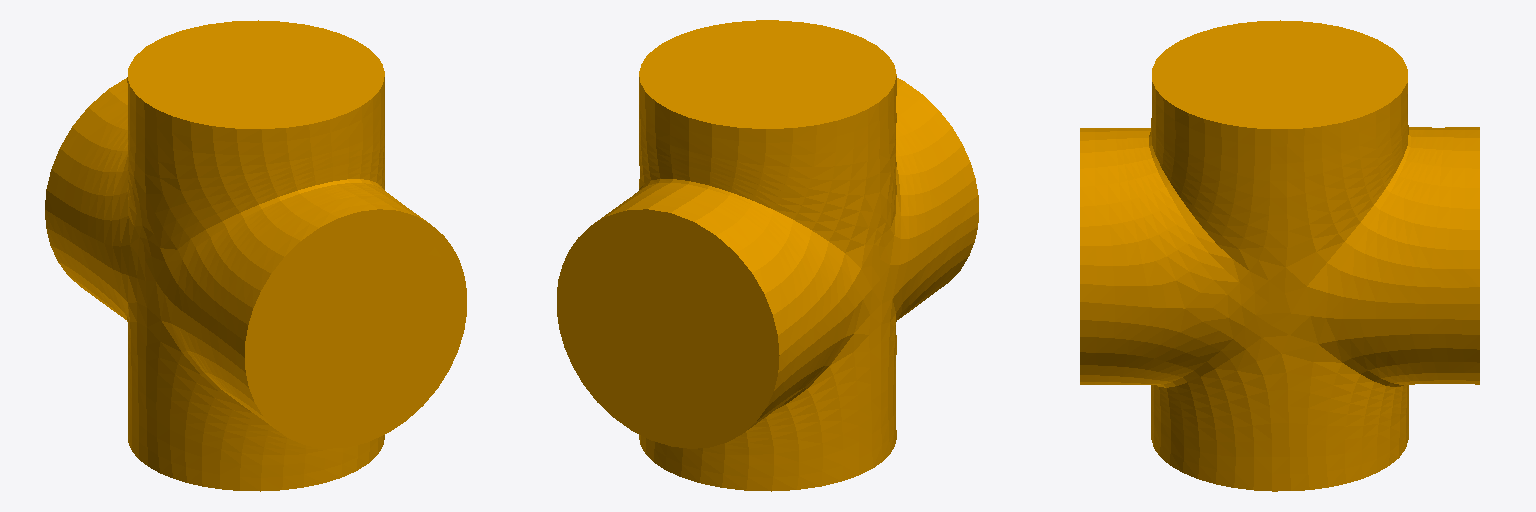
robot.urdf — object:
<robot name="object">
  <link name="object">
    <visual>
      <origin xyz="0 0 0"/>
      <geometry>
        <mesh filename="visual.obj" scale="1 1 1"/>
      </geometry>
    </visual>
    <collision>
      <origin xyz="0 0 0"/>
      <geometry>
        <mesh filename="visual.obj" scale="1 1 1"/>
      </geometry>
    </collision>
    <inertial>
      <mass value="0.05"/>
      <inertia ixx="5.9610874588084165e-05" iyy="4.258948738308539e-05" izz="4.259106074773005e-05" ixy="-2.594392454540155e-09" ixz="-8.556353473007424e-10" iyz="3.614798880777944e-09"/>
    </inertial>
  </link>
</robot>

--- What the picture shows (computed from the rendered views, not written in the file) ---
Views: 3 orthographic renders of the robot side by side, from view 1: azimuth 30°, elevation 25°; view 2: azimuth 150°, elevation 25°; view 3: azimuth 270°, elevation 25°.
Robot: object — 1 links, 0 joints (none); root link object; default pose: every joint at zero.
Links seen in each view (by area): view 1: object; view 2: object; view 3: object.
Boxes of the visible links, x1,y1,x2,y2 form: object: (45, 20, 466, 491); object: (557, 20, 978, 491); object: (1080, 20, 1479, 491).
Bounding box of the posed robot: 0.0619 × 0.096 × 0.096 m (x, y, z).
Meshes: 1 distinct files referenced, 1 mesh visuals loaded (1 OBJ).
